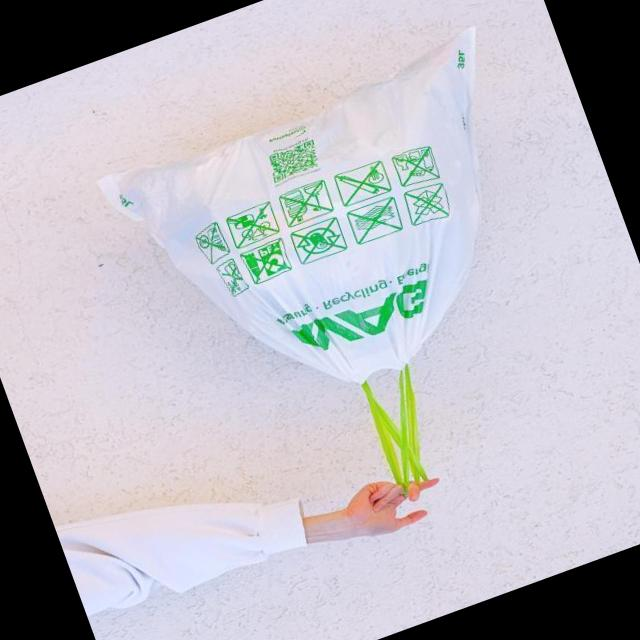KantongPlastik: (65, 0, 617, 523)
